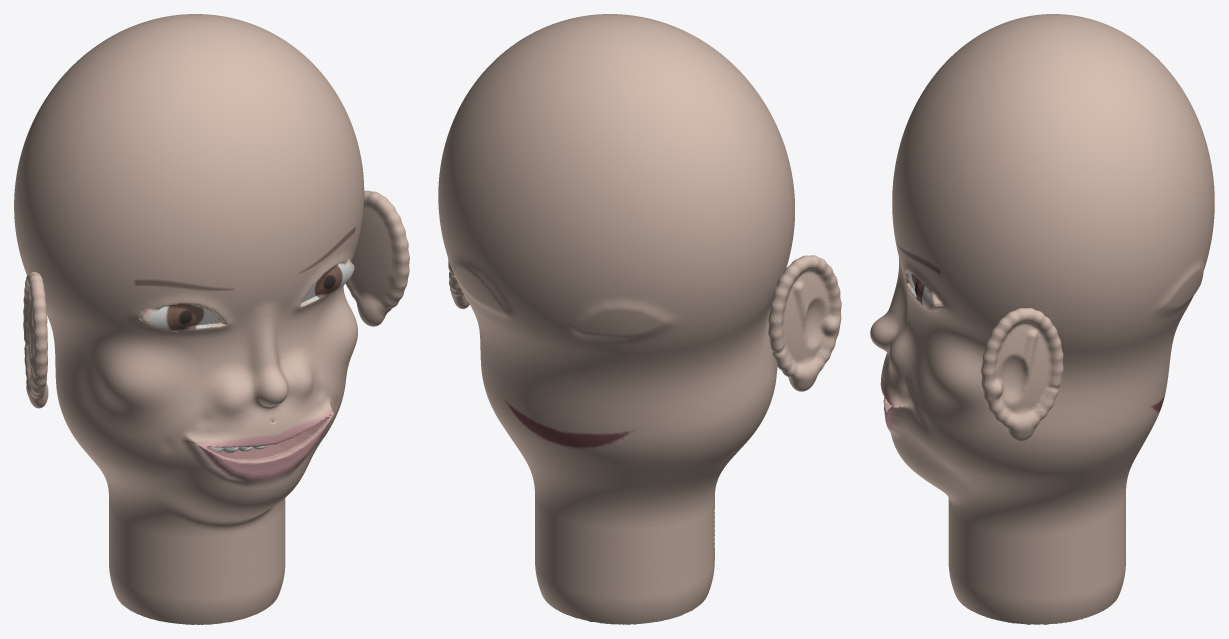
Rendered from karma_face_stage1_Q_smile_EXPERIMENT.glb.
3 views of the same model, side by side, from view 1: azimuth 30°, elevation 25°; view 2: azimuth 150°, elevation 25°; view 3: azimuth 270°, elevation 25° (orthographic).
Parts seen in each view (by area): view 1: head; view 2: head; view 3: head.
Part boxes in pixels (bbox=[...]): head: bbox=[14, 14, 409, 624]; head: bbox=[438, 14, 841, 624]; head: bbox=[870, 14, 1214, 624].
Bounding box in the file's own units: 2.7 × 3.83 × 2.14.
